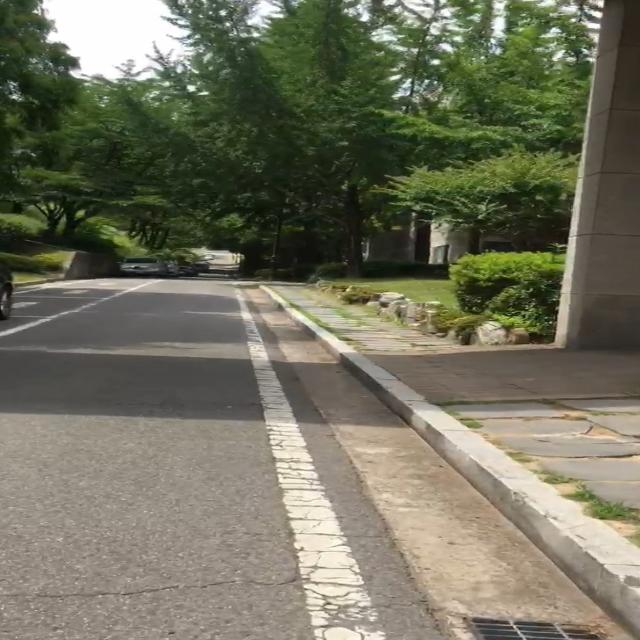obstacle: (117, 254, 212, 279), (0, 263, 12, 318)
road: (0, 278, 632, 640)
sidewalk: (395, 376, 640, 595), (271, 282, 433, 345)
